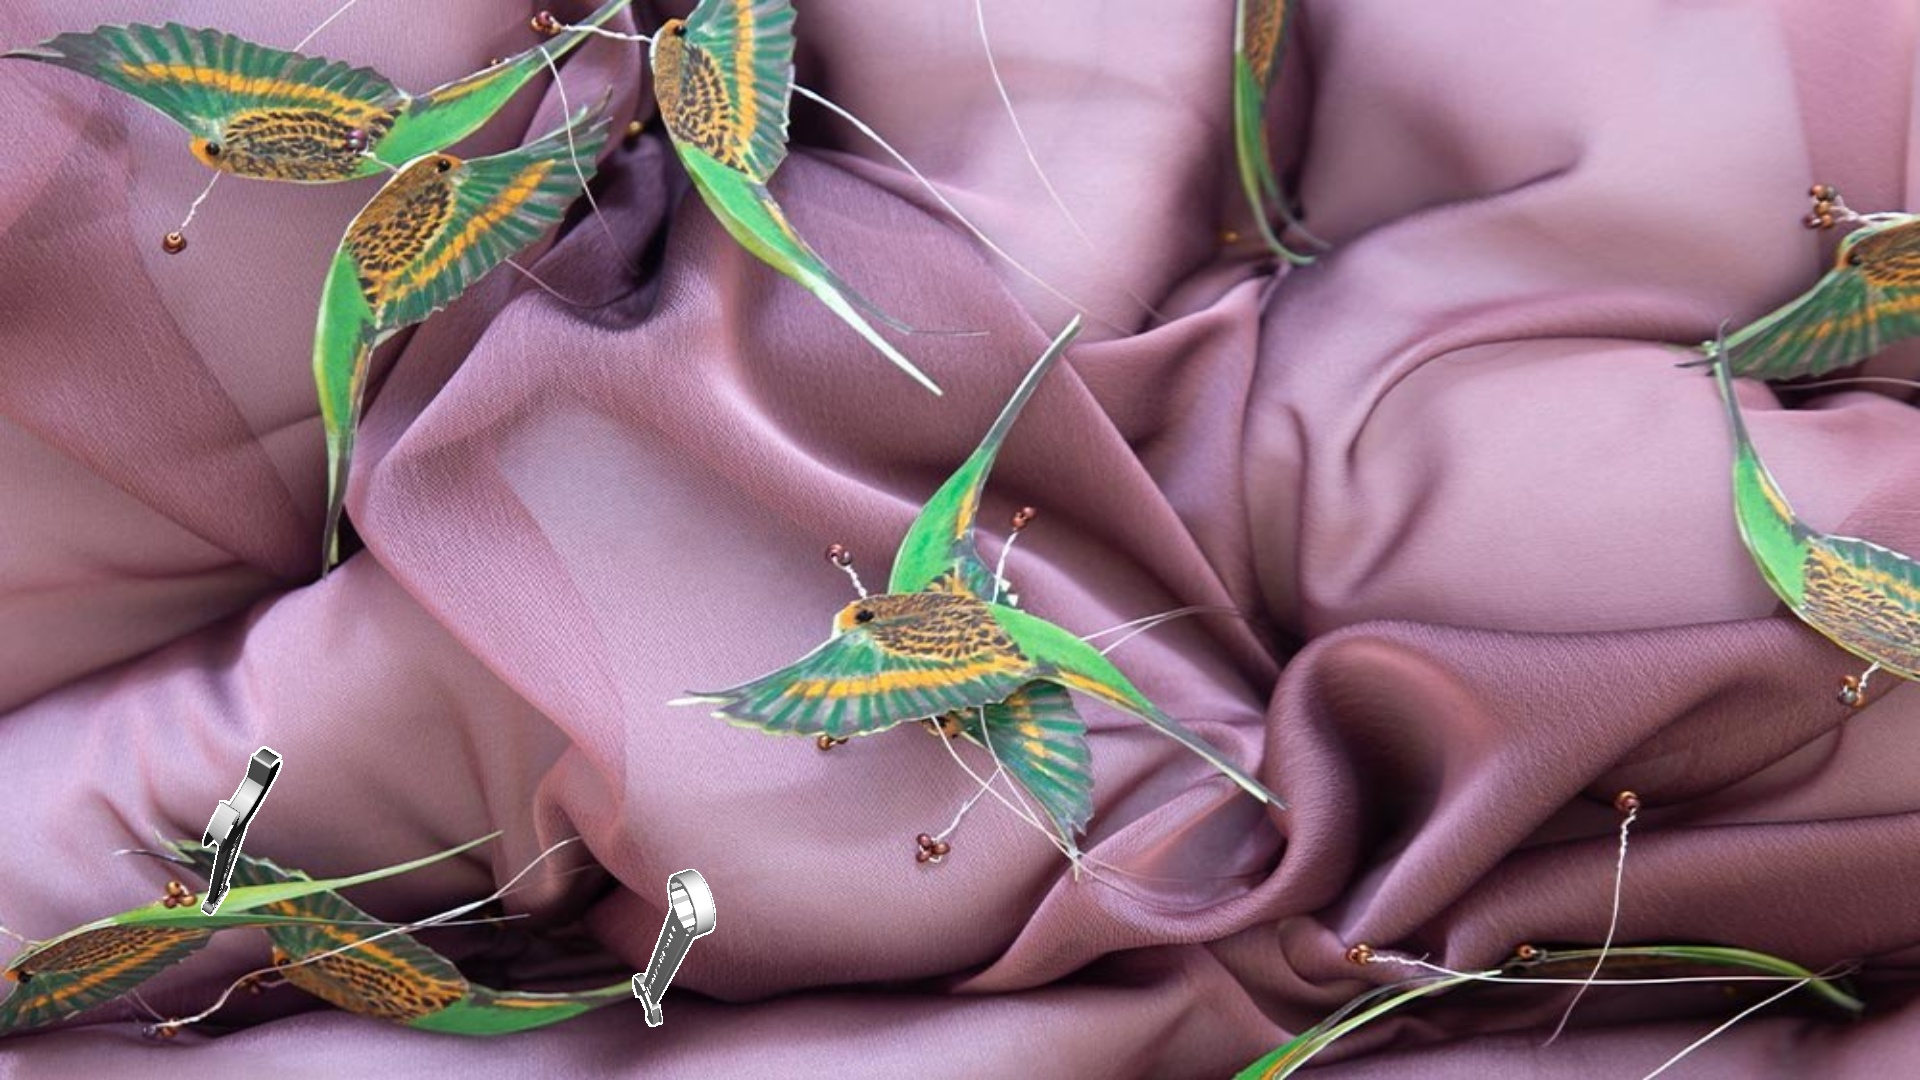Mixed Key: (200, 746, 282, 915), (632, 869, 715, 1026)
